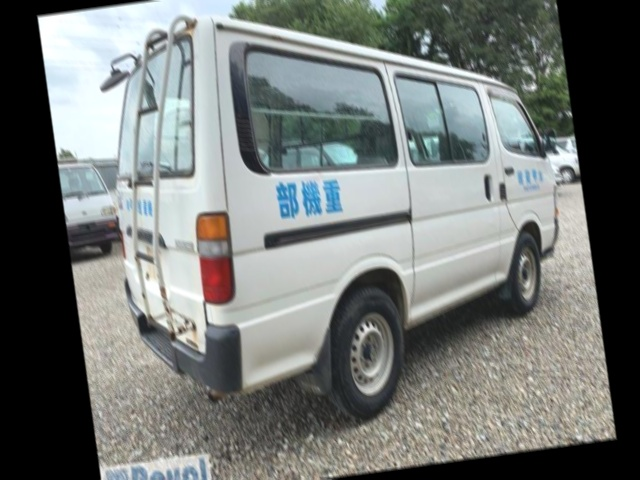van: (93, 0, 584, 431)
